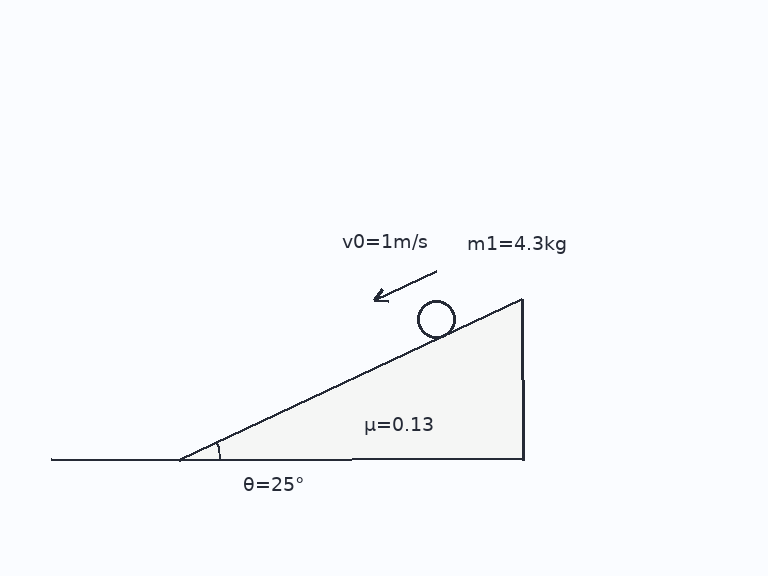ball: (415, 298, 457, 340)
ramp: (178, 297, 525, 461)
